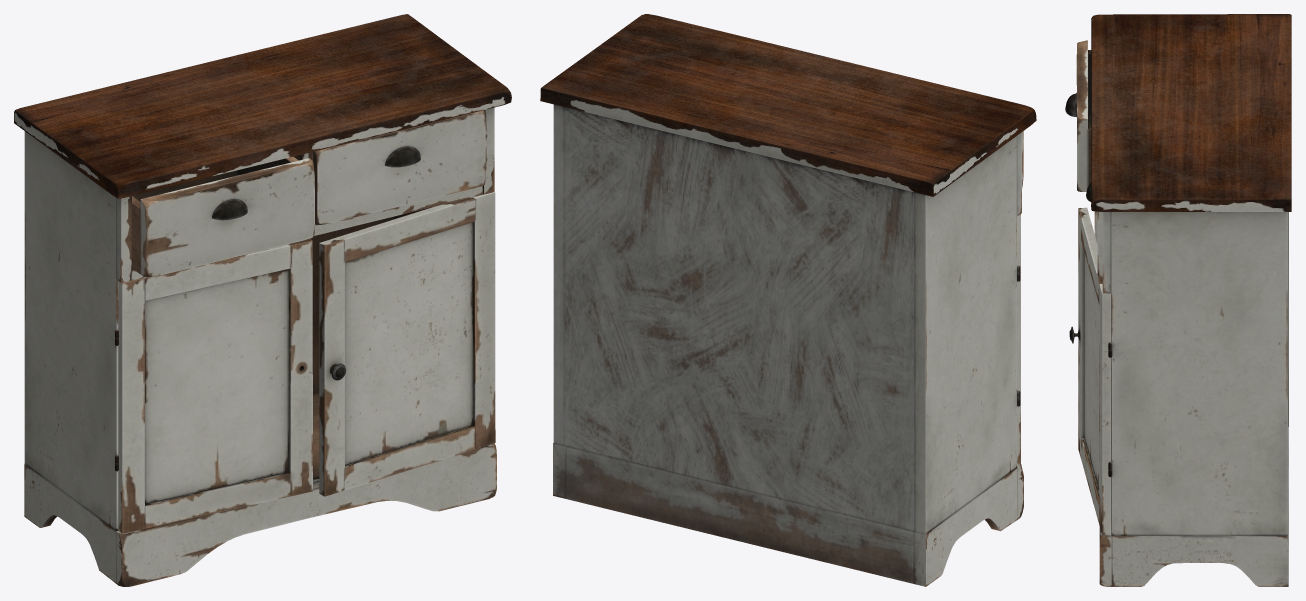
The model's file is painted_wooden_cabinet.glb.
3 views of the same model, side by side, from view 1: azimuth 30°, elevation 25°; view 2: azimuth 150°, elevation 25°; view 3: azimuth 270°, elevation 25° (orthographic). The views are drawn at different scales.
Parts seen in each view (by area): view 1: painted_wooden_cabinet, painted_wooden_cabinet_door_01, painted_wooden_cabinet_door_02, painted_wooden_cabinet_drawer_01, painted_wooden_cabinet_drawer_02; view 2: painted_wooden_cabinet, painted_wooden_cabinet_door_01; view 3: painted_wooden_cabinet, painted_wooden_cabinet_door_02, painted_wooden_cabinet_drawer_01, painted_wooden_cabinet_drawer_02.
Boxes of the visible parts, <box> form: painted_wooden_cabinet: <box>14,14,511,586</box>; painted_wooden_cabinet_door_01: <box>118,238,312,533</box>; painted_wooden_cabinet_door_02: <box>319,192,495,496</box>; painted_wooden_cabinet_drawer_01: <box>132,156,314,277</box>; painted_wooden_cabinet_drawer_02: <box>313,110,485,224</box>; painted_wooden_cabinet: <box>540,14,1036,586</box>; painted_wooden_cabinet_door_01: <box>1017,214,1020,465</box>; painted_wooden_cabinet: <box>1091,14,1291,586</box>; painted_wooden_cabinet_door_02: <box>1069,207,1110,535</box>; painted_wooden_cabinet_drawer_01: <box>1065,40,1091,191</box>; painted_wooden_cabinet_drawer_02: <box>1086,183,1102,277</box>.
Size of the model in its own units: 1.19 by 1.18 by 0.6166.
Materials: 1 (1 with a texture image).
